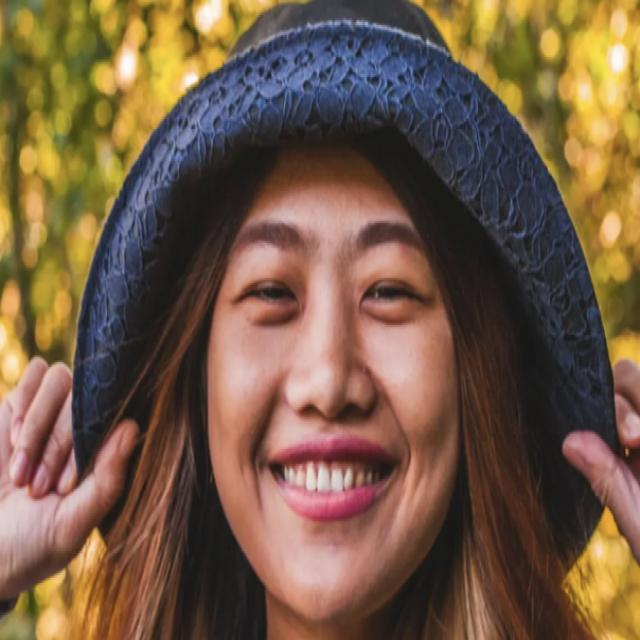happy: (160, 106, 519, 616)
